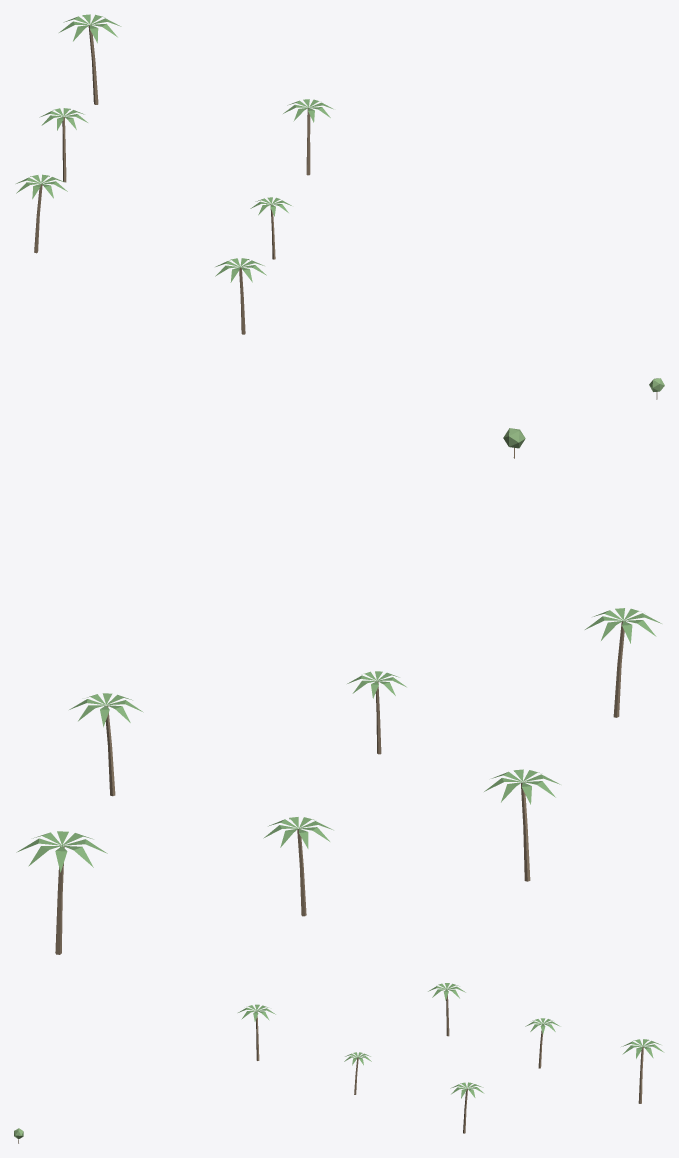
File: nature_-7_2.glb
3 views of the same model, one above another, from view 1: azimuth 30°, elevation 25°; view 2: azimuth 150°, elevation 25°; view 3: azimuth 270°, elevation 25° (orthographic). The views are drawn at different scales.
Visible parts, largest first — view 1: palm_leaf, trunk; view 2: palm_leaf, trunk; view 3: palm_leaf, trunk.
Boxes of the visible parts, left/top/right/bottom form: palm_leaf: left=16, top=14, right=333, bottom=282; trunk: left=34, top=25, right=657, bottom=399; palm_leaf: left=16, top=608, right=661, bottom=872; trunk: left=55, top=448, right=625, bottom=954; palm_leaf: left=238, top=983, right=664, bottom=1098; trunk: left=18, top=995, right=643, bottom=1143.
Bounding box in the file's own units: 51.59 × 11.87 × 121.
